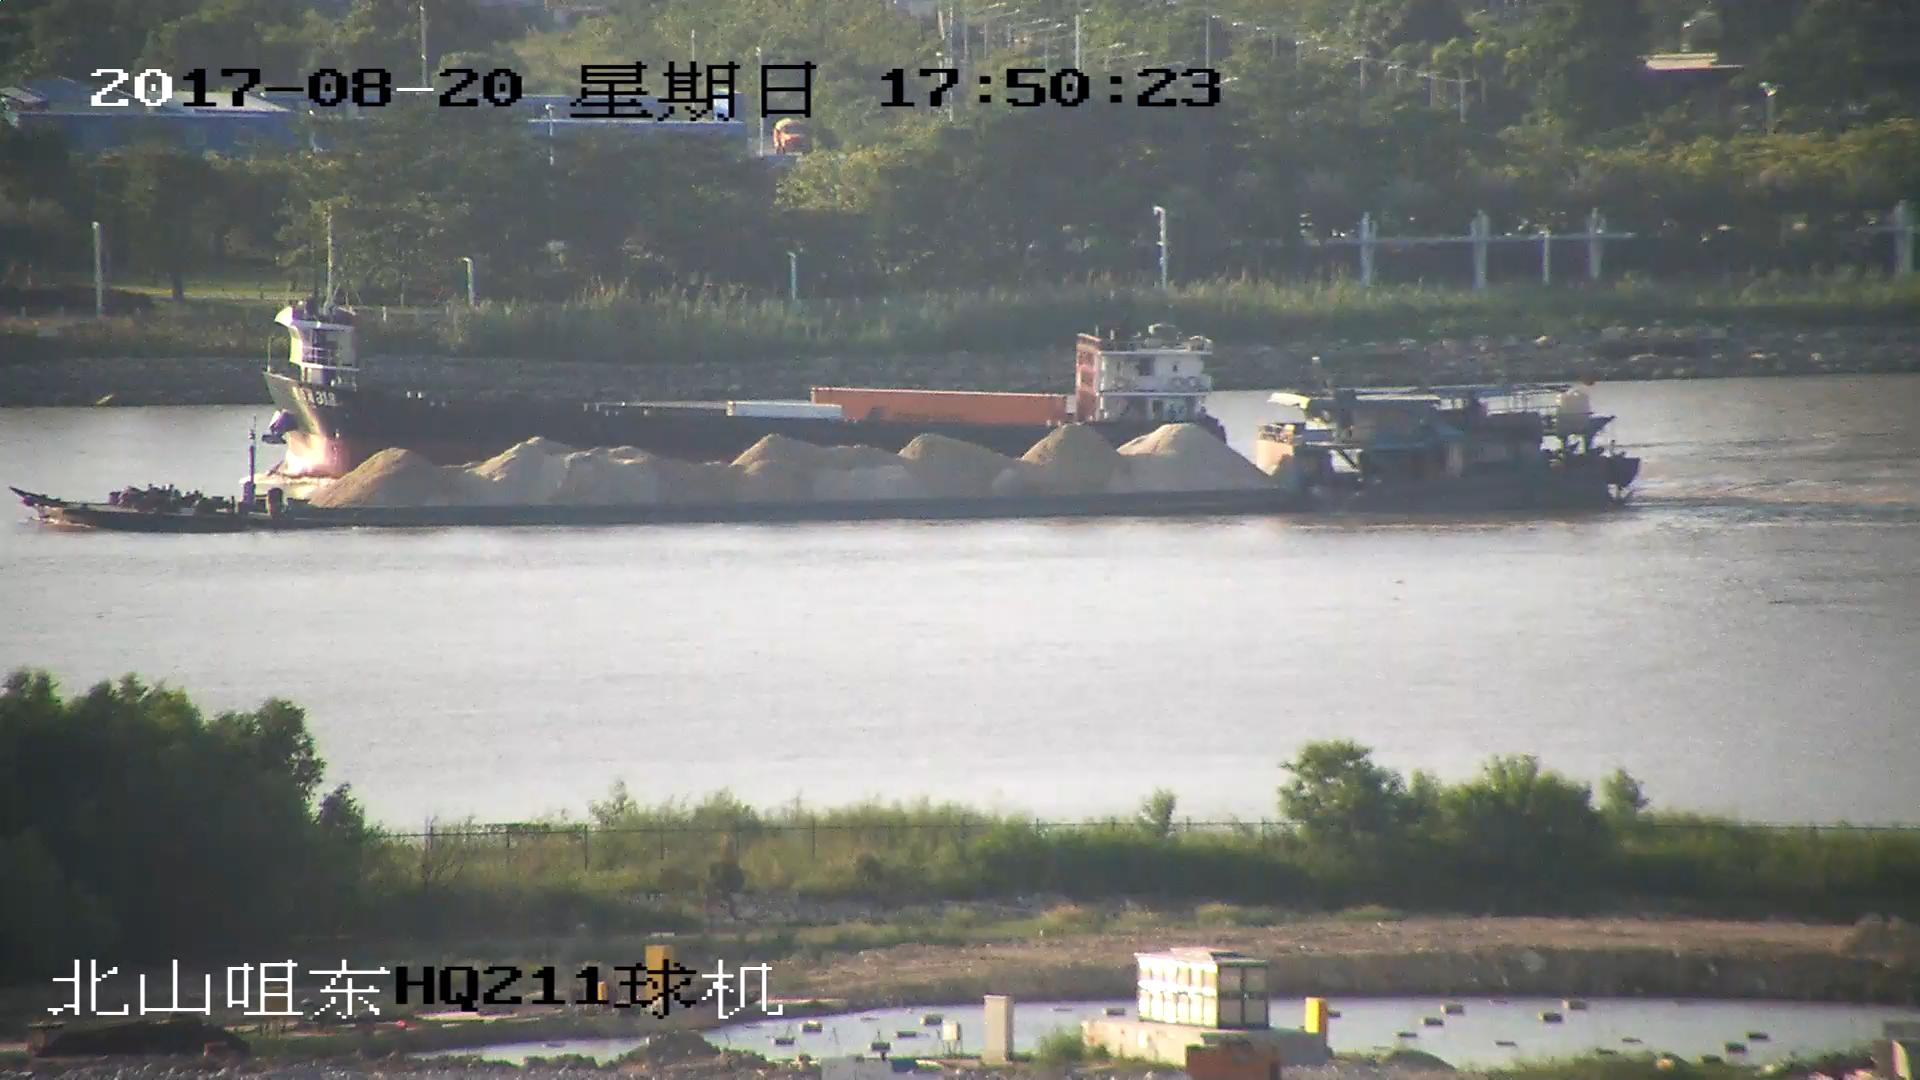general cargo ship: (250, 208, 1255, 482)
ore carrier: (20, 386, 1648, 528)
